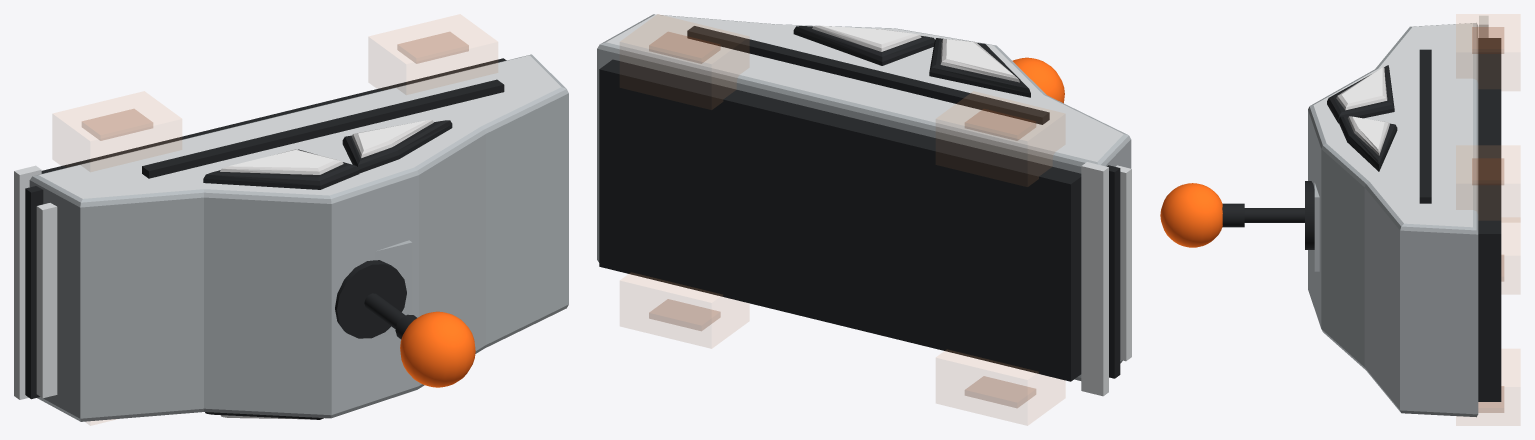
Rendered from nova-vehicle-v2.glb.
3 renders of one model, left to right at view 1: azimuth 30°, elevation 25°; view 2: azimuth 150°, elevation 25°; view 3: azimuth 270°, elevation 25°, orthographic. The views are drawn at different scales.
Parts seen in each view (by area): view 1: NOVA_Underbody, NOVA_Transparent_Wheel_-0.72_-0.52, NOVA_Orange_Sensor_Orb; view 2: NOVA_Underbody, NOVA_Transparent_Wheel_-0.72_-0.52, NOVA_Orange_Sensor_Orb; view 3: NOVA_Underbody, NOVA_Transparent_Wheel_-0.72_-0.52, NOVA_Orange_Sensor_Orb.
Boxes of the visible parts, x1,y1,x2,y2 form: NOVA_Underbody: (14,54,568,421); NOVA_Transparent_Wheel_-0.72_-0.52: (53,14,497,425); NOVA_Orange_Sensor_Orb: (400,311,475,387); NOVA_Underbody: (597,14,1131,396); NOVA_Transparent_Wheel_-0.72_-0.52: (620,14,1064,425); NOVA_Orange_Sensor_Orb: (1012,57,1064,103); NOVA_Underbody: (1222,15,1501,417); NOVA_Transparent_Wheel_-0.72_-0.52: (1456,14,1520,425); NOVA_Orange_Sensor_Orb: (1160,183,1222,247).
Bounding box in the file's own units: 2.34 × 1.24 × 1.67.
3 materials, 3 textured.
